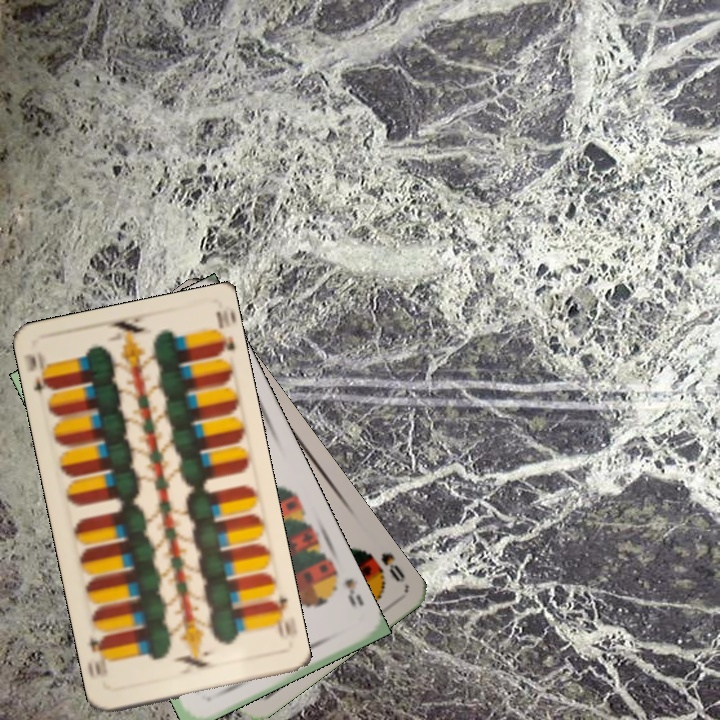E10: (22, 349, 57, 406), (264, 592, 293, 643)
S9: (324, 565, 366, 610)
SO: (359, 546, 408, 586)
